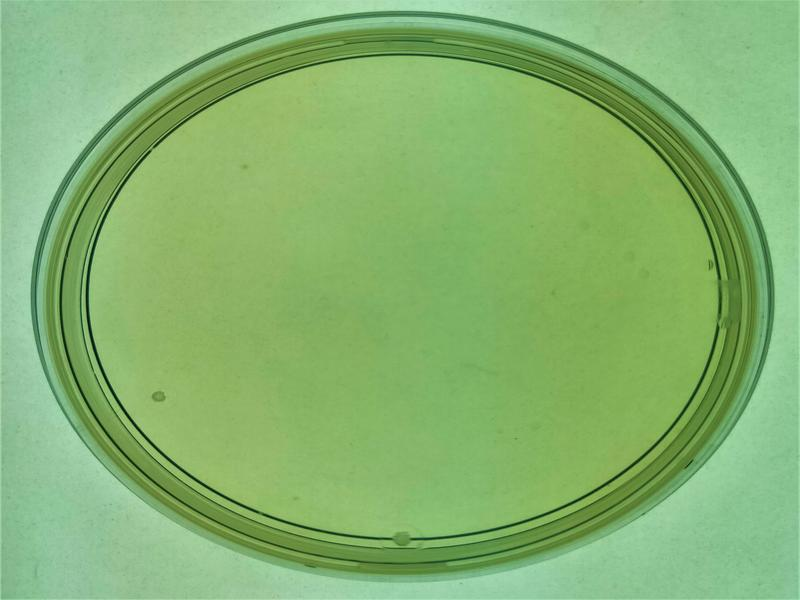colony: (145, 383, 172, 409)
